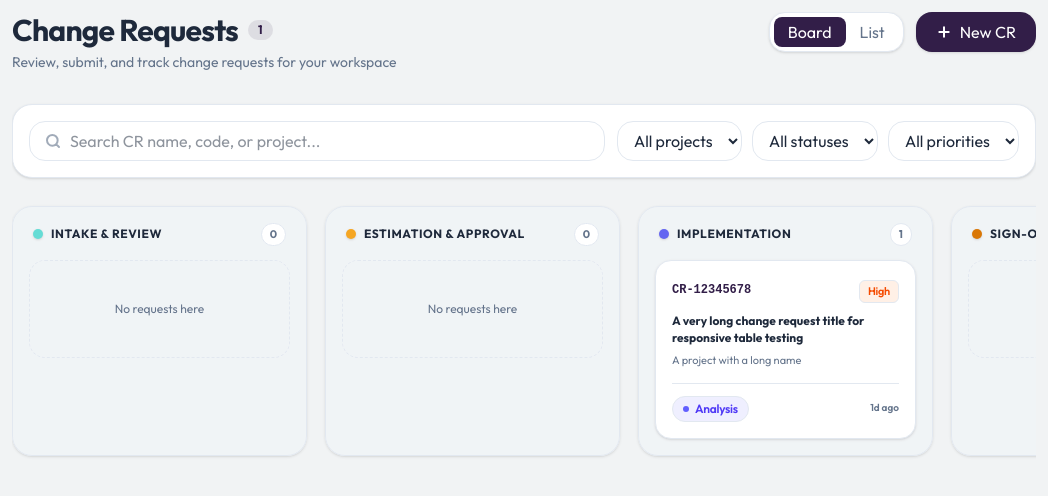
Test: CrListComponent views › switches from Board to List and back without reloading data
Expected: the element named "Change Request board" is shown, x1=12 y1=202 x2=1036 y2=480
Click the button "List" at [872, 32], box x1=846 y1=17 x2=899 y2=47
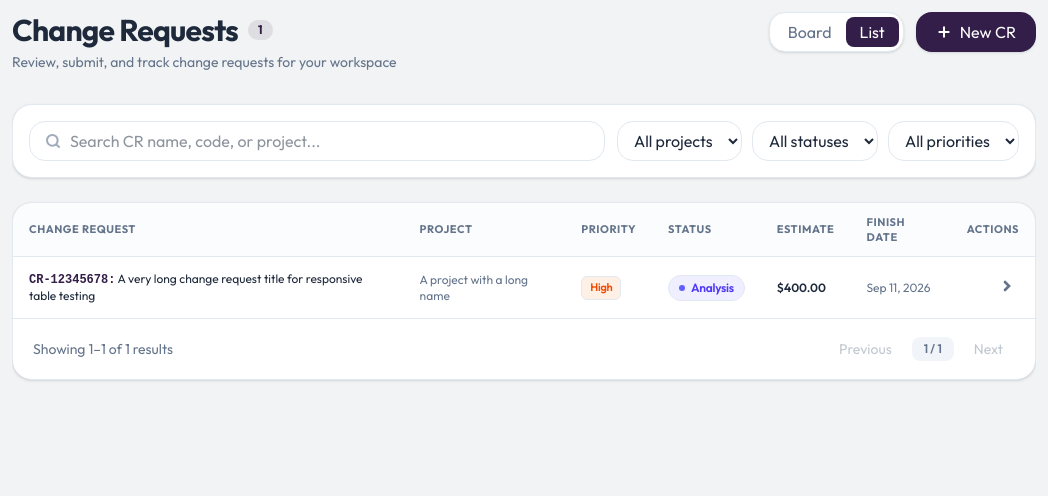
Expected: the table is shown, x1=13 y1=203 x2=1035 y2=318
Click the button "Board" at [810, 32], box x1=774 y1=17 x2=846 y2=47
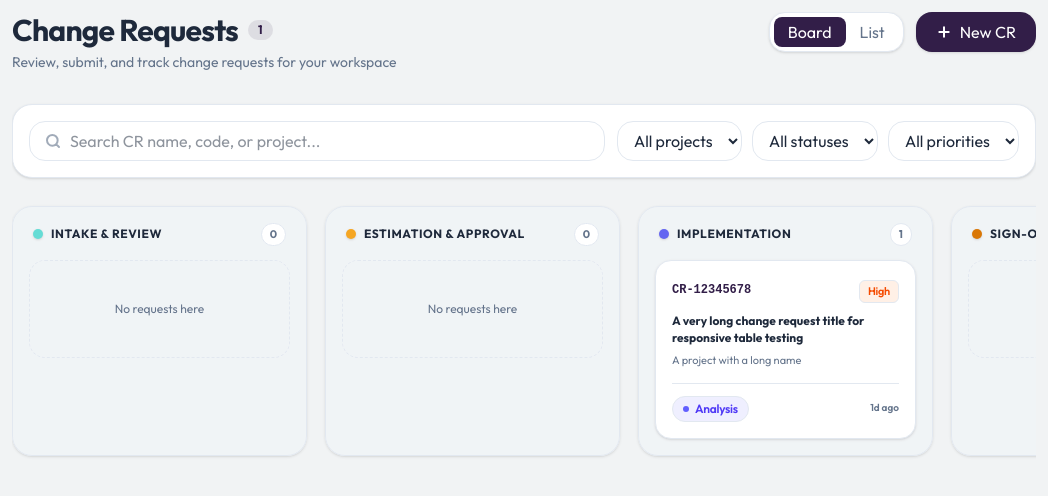
Expected: the element named "Change Request board" is shown, x1=12 y1=202 x2=1036 y2=480
Expected: the table is gone
